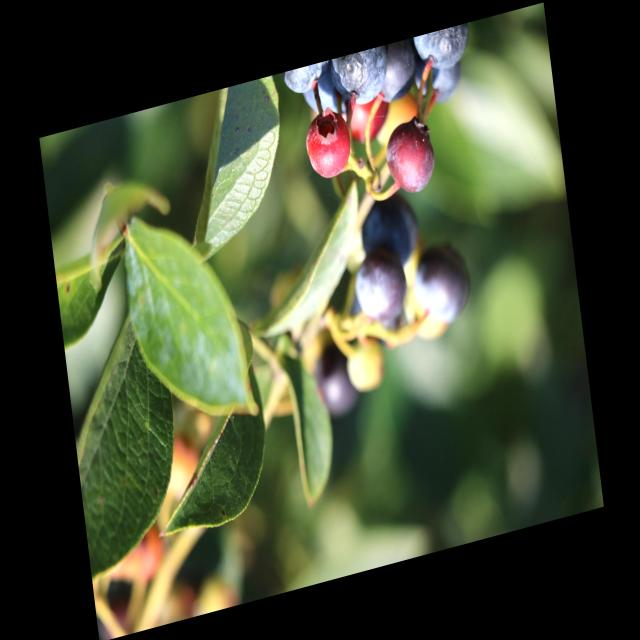blueberry: (412, 243, 475, 329), (358, 191, 424, 273), (352, 249, 406, 327), (313, 346, 360, 419), (415, 22, 474, 75), (335, 46, 387, 106), (375, 37, 421, 104), (415, 57, 464, 111), (302, 67, 352, 119), (284, 62, 326, 100)
blueberry-halfripe: (377, 110, 443, 205), (302, 109, 356, 184)
